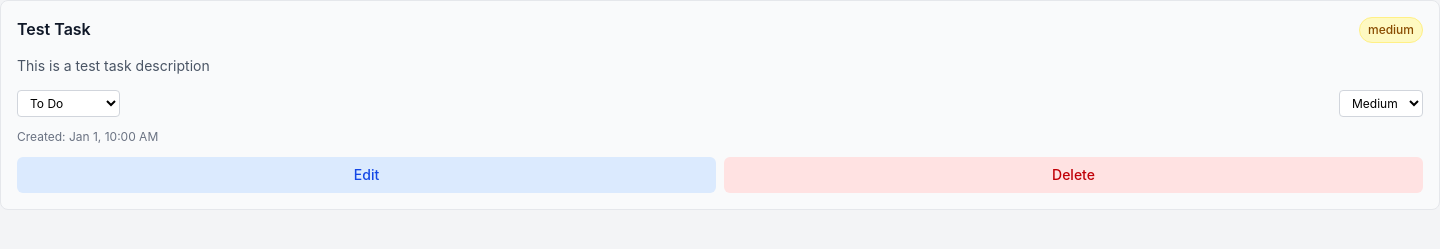
Scenario: TaskCard › switches to edit mode when Edit button is clicked
What coordinates should you click on to do the following:
click the button "Edit"
I would click on:
 (366, 175)
Its box is [17,157,716,193].
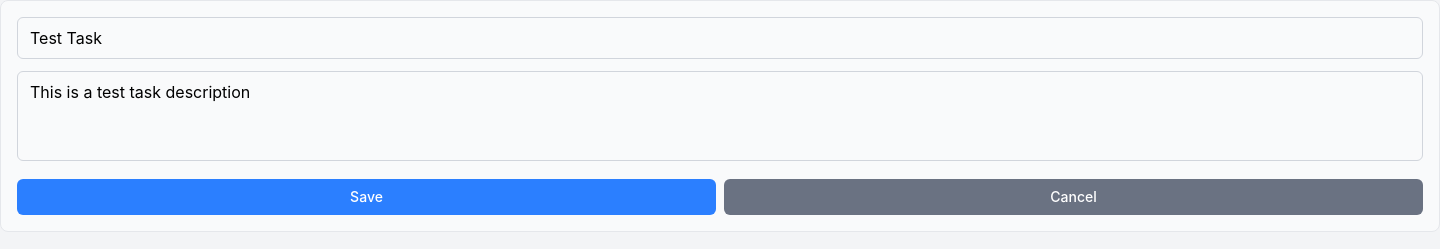
Result: the field with placeholder "Task title" is shown at [17,17,1423,59]
Result: the text box with placeholder "Task description" is shown at [17,71,1423,161]
